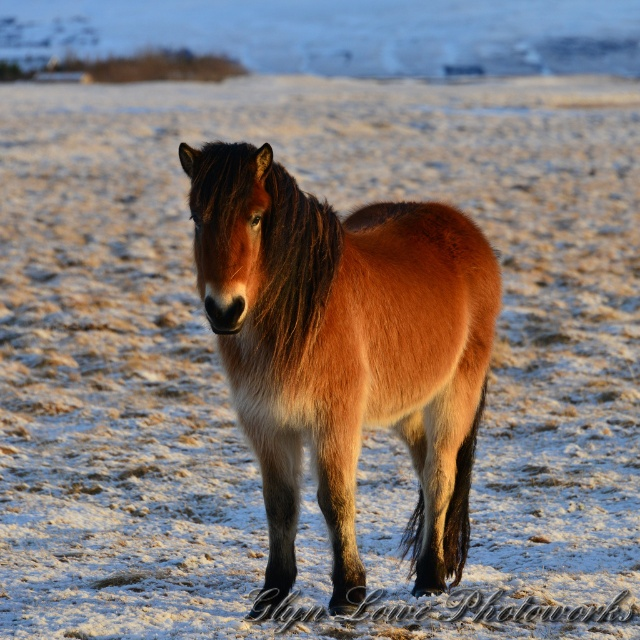Horse: (178, 139, 502, 624)
